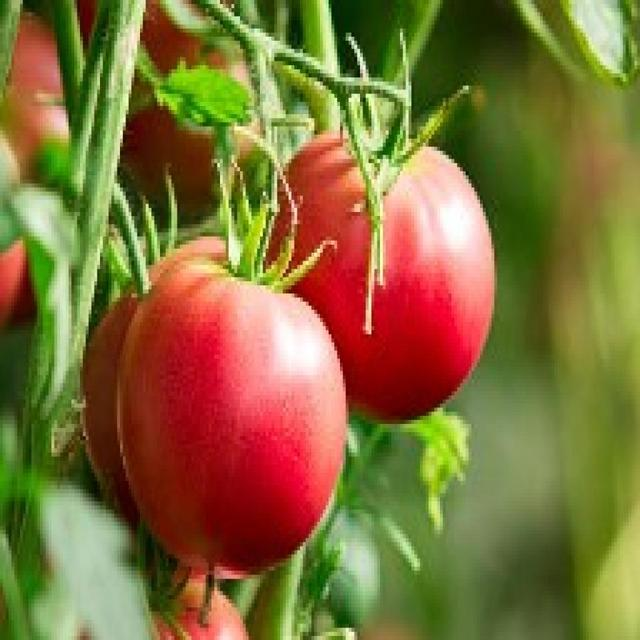Healthy Fruit: (144, 182, 264, 275)
